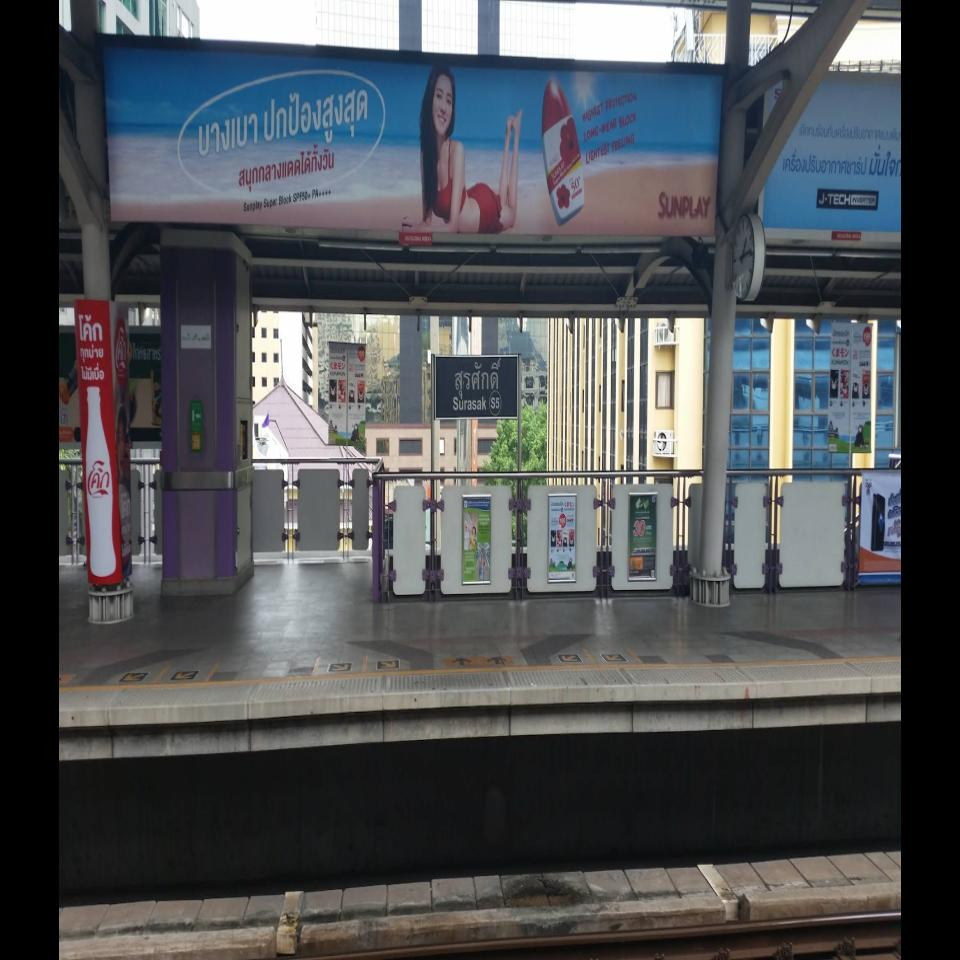Surasak: (433, 352, 519, 423)
